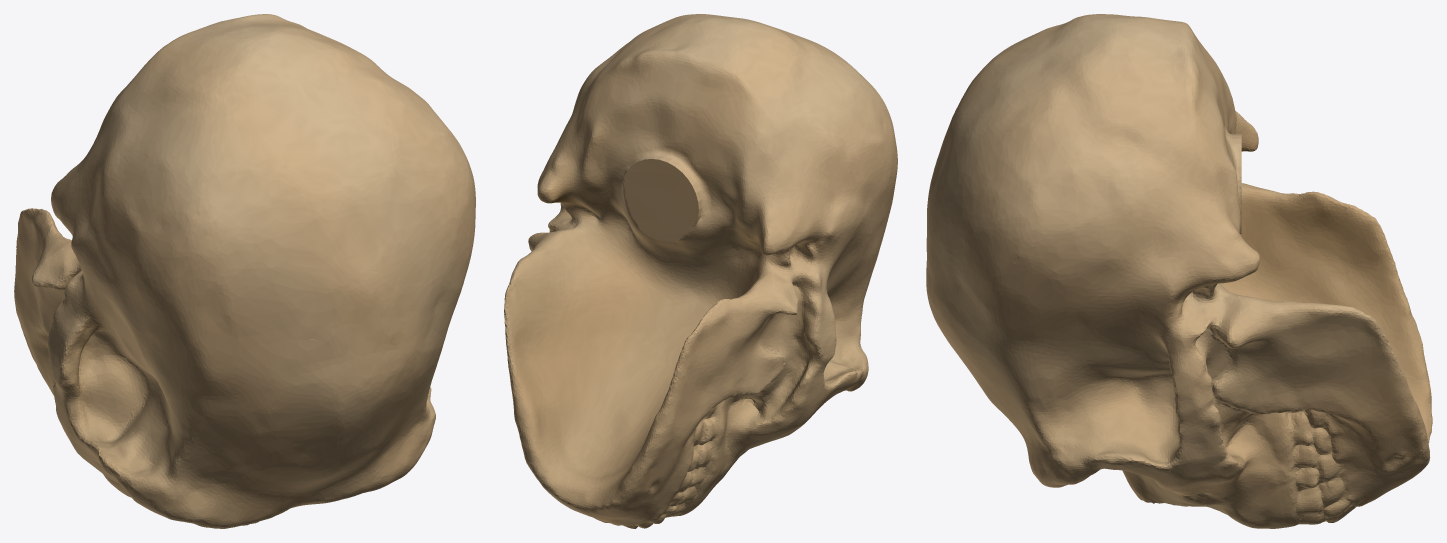
Rendered from heidelbergensis.glb.
The picture shows the model from 3 angles, left to right: view 1: azimuth 30°, elevation 25°; view 2: azimuth 150°, elevation 25°; view 3: azimuth 270°, elevation 25°; orthographic projection. The views are drawn at different scales.
Bounding box in the file's own units: 35.02 × 51.08 × 48.14.
